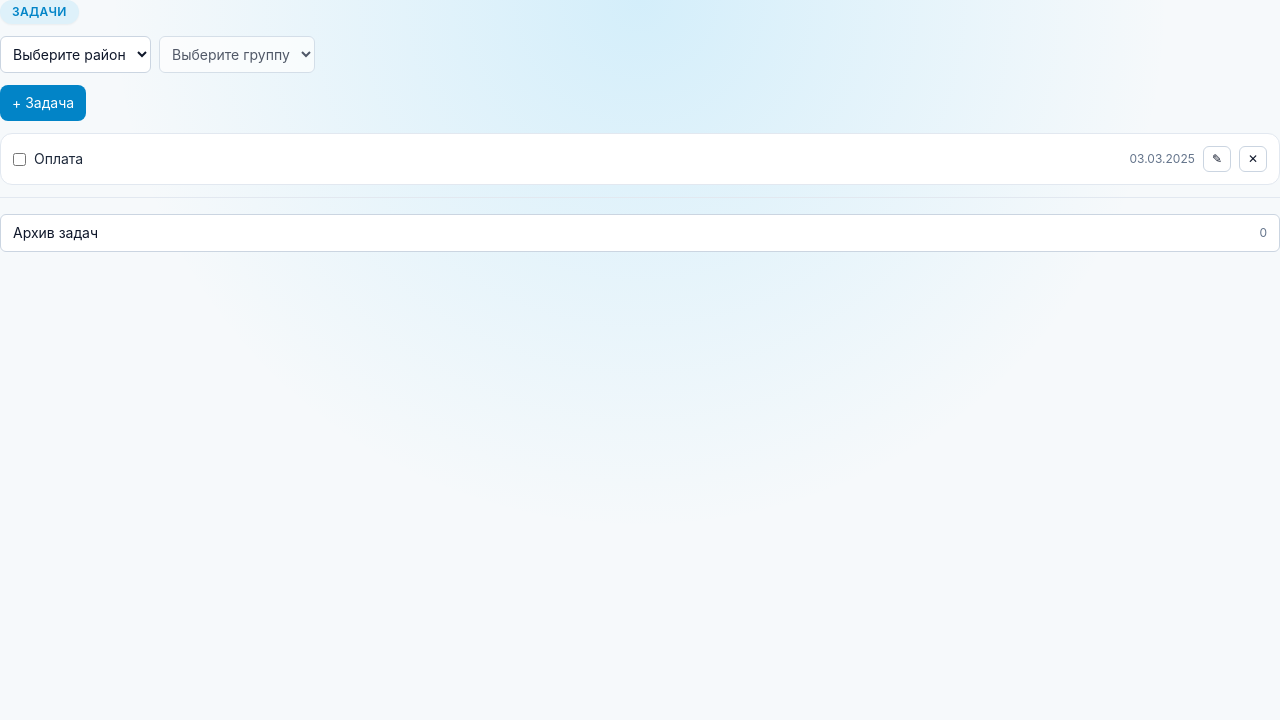
Test case: TasksTab CRUD operations › Modal shows client card action when client is linked
The image size is (1280, 720).
Click the text "Оплата" at (59, 159), box [34, 149, 83, 169]
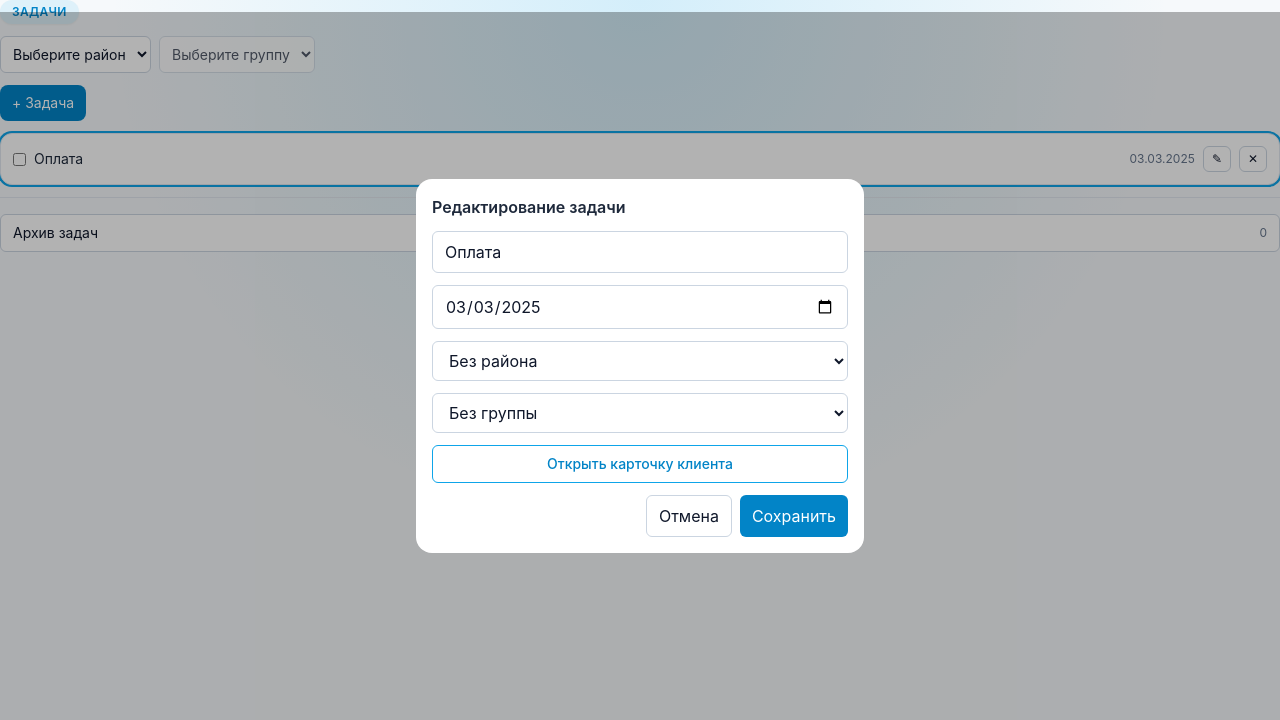
Expected: the button "Открыть карточку клиента" is shown, [432, 445, 848, 483]
